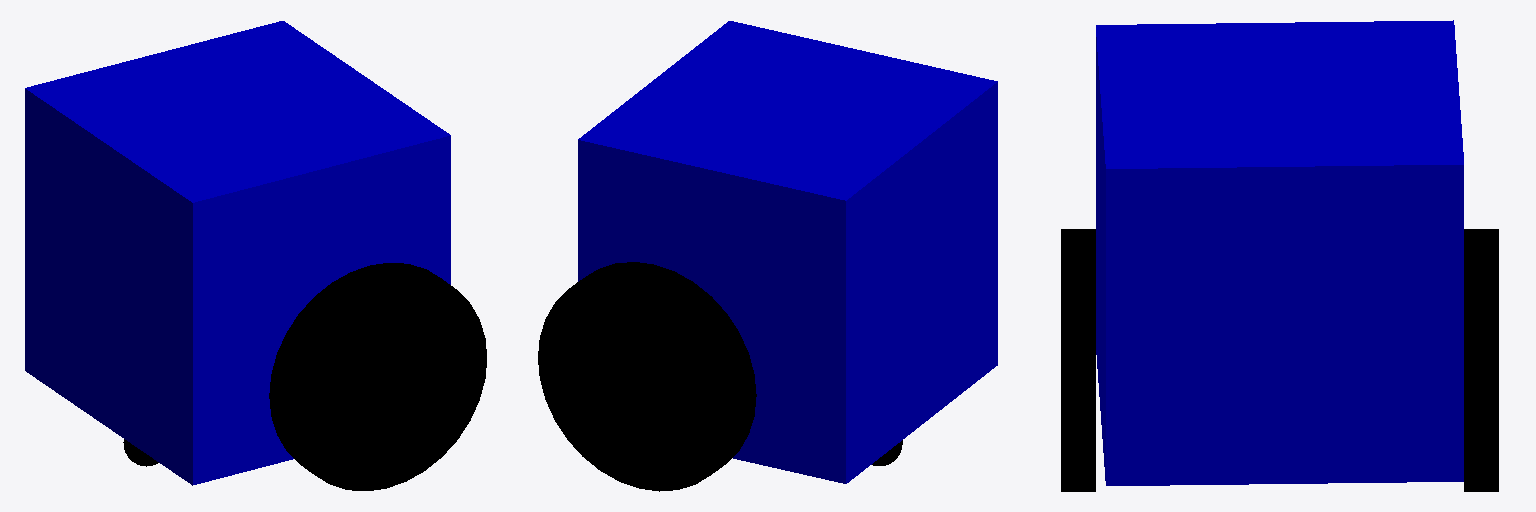
URDF robot description (arbot):
<?xml version="1.0"?>
<!-- =================================================================================== -->
<!-- |    This document was autogenerated by xacro from ar_bot.xacro                   | -->
<!-- |    EDITING THIS FILE BY HAND IS NOT RECOMMENDED                                 | -->
<!-- =================================================================================== -->
<!-- 
[author]

Purpose:
    URDF File for the AR Bot

Based off of:
    - the ROS URDF Tutorial: https://github.com/ros/urdf_tutorial/blob/master/urdf/06-flexible.urdf
    - URDF Tutorial by Articulated Robotics:
https://github.com/joshnewans/articubot_one/blob/d5aa5e9bc9039073c0d8fd7fe426e170be79c087/description/robot_core.xacro
-->
<robot name="arbot">
  <material name="blue">
    <color rgba="0 0 0.8 1" />
  </material>
  <material name="neon_blue">
    <color rgba="0 100 255 1" />
  </material>
  <material name="black">
    <color rgba="0 0 0 1" />
  </material>
  <link name="base_link">
    <visual>
      <origin rpy="0 0 0.03" xyz="0 0 0" />
      <geometry>
        <box size="0.078 0.082 0.08" />
      </geometry>
      <material name="blue" />
    </visual>
    <collision>
      <geometry>
        <box size="0.078 0.082 0.08" />
      </geometry>
    </collision>
    <inertial>
      <origin rpy="0 0 0.03" xyz="0 0 0" />
      <mass value="0.05" />
      <inertia ixx="5.468333333333333e-05" ixy="0" ixz="0" iyy="5.336666666666667e-05" iyz="0"
        izz="5.201666666666667e-05" />
    </inertial>
  </link>
  <joint name="right_wheel_joint" type="continuous">
    <axis rpy="0 0 0" xyz="0 0 1" />
    <parent link="base_link" />
    <child link="right_wheel" />
    <origin rpy="1.57075 0 0" xyz="0.015 -0.046 -0.02" />
  </joint>
  <link name="right_wheel">
    <visual>
      <geometry>
        <cylinder length="0.008" radius="0.03" />
      </geometry>
      <material name="black" />
    </visual>
    <collision>
      <geometry>
        <cylinder length="0.008" radius="0.03" />
      </geometry>
    </collision>
    <inertial>
      <origin rpy="0 0 0" xyz="0 0 0" />
      <mass value="0.01" />
      <inertia ixx="2.3033333333333326e-06" ixy="0.0" ixz="0.0" iyy="2.3033333333333326e-06"
        iyz="0.0" izz="4.5e-06" />
    </inertial>
  </link>
  <joint name="left_wheel_joint" type="continuous">
    <axis rpy="0 0 0" xyz="0 0 1" />
    <parent link="base_link" />
    <child link="left_wheel" />
    <origin rpy="1.57075 0 0" xyz="0.015 0.046 -0.02" />
  </joint>
  <link name="left_wheel">
    <visual>
      <geometry>
        <cylinder length="0.008" radius="0.03" />
      </geometry>
      <material name="black" />
    </visual>
    <collision>
      <geometry>
        <cylinder length="0.008" radius="0.03" />
      </geometry>
    </collision>
    <inertial>
      <origin rpy="0 0 0" xyz="0 0 0" />
      <mass value="0.01" />
      <inertia ixx="2.3033333333333326e-06" ixy="0.0" ixz="0.0" iyy="2.3033333333333326e-06"
        iyz="0.0" izz="4.5e-06" />
    </inertial>
  </link>
  <joint name="caster_wheel_joint" type="fixed">
    <parent link="base_link" />
    <child link="caster_wheel" />
    <origin rpy="0 0 0" xyz="-0.027 0 -0.0475" />
  </joint>
  <link name="caster_wheel">
    <visual>
      <geometry>
        <sphere radius="0.006" />
      </geometry>
      <material name="black" />
    </visual>
    <collision>
      <geometry>
        <sphere radius="0.006" />
      </geometry>
    </collision>
    <inertial>
      <origin rpy="0 0 0" xyz="0 0 0" />
      <mass value="0.01" />
      <inertia ixx="1.4400000000000002e-07" ixy="0.0" ixz="0.0" iyy="1.4400000000000002e-07"
        iyz="0.0" izz="1.4400000000000002e-07" />
    </inertial>
    <contact>
      <lateral_friction value="0.0" />
      <rolling_friction value="0.0" />
    </contact>
  </link>
</robot>

--- What the picture shows (computed from the rendered views, not written in the file) ---
3 views of the same robot in one strip: view 1: azimuth 30°, elevation 25°; view 2: azimuth 150°, elevation 25°; view 3: azimuth 270°, elevation 25° (orthographic).
Model arbot with 4 links and 3 joints (2 continuous, 1 fixed), rooted at base_link, posed every joint at zero.
Visible links, largest first — view 1: base_link, right_wheel; view 2: base_link, left_wheel; view 3: base_link, right_wheel, left_wheel.
Link boxes in pixels (x1,y1,x2,y2): base_link: [25, 21, 450, 485]; right_wheel: [269, 263, 486, 490]; base_link: [578, 21, 997, 483]; left_wheel: [538, 262, 756, 491]; base_link: [1096, 20, 1463, 485]; right_wheel: [1061, 229, 1095, 491]; left_wheel: [1464, 229, 1498, 491].
Bounding box of the posed robot: 0.0852 × 0.1 × 0.0935 m (x, y, z).
Geometry: primitives only (box / cylinder / sphere), no mesh files.